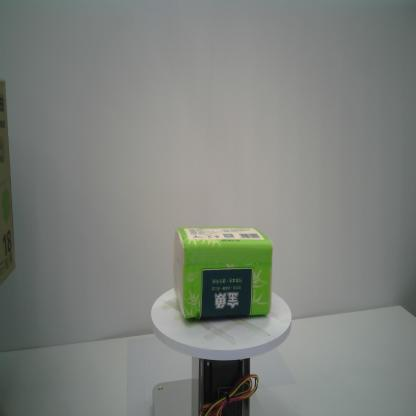Tissue: (172, 222, 275, 324)
